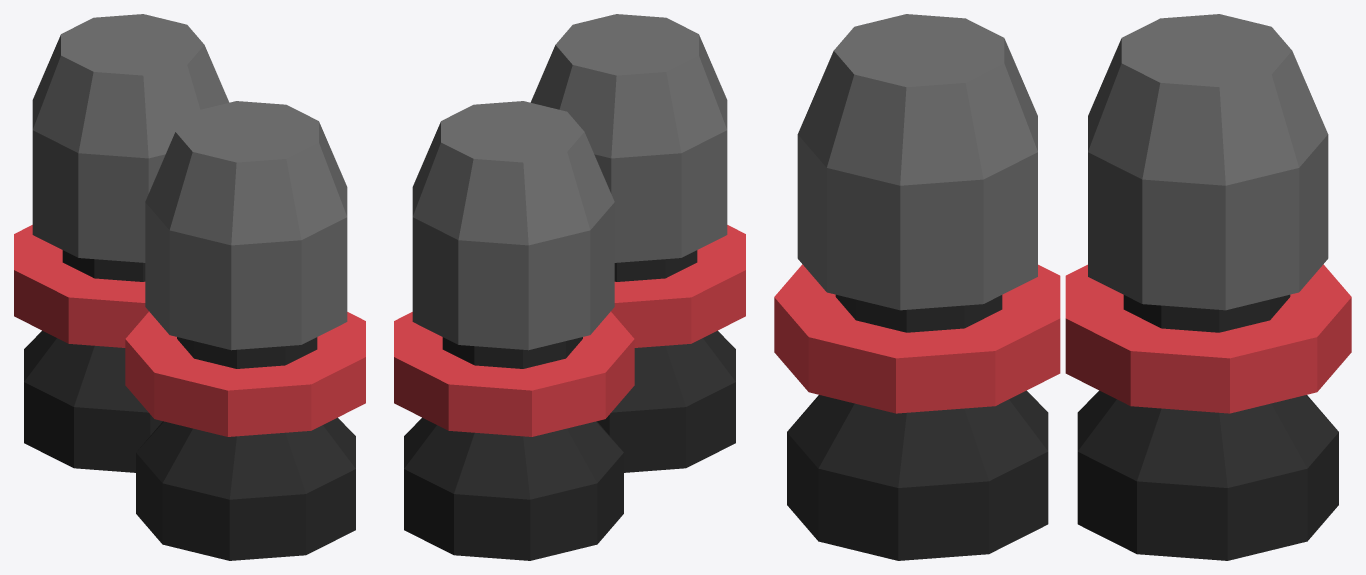
Rendered from qbjet.glb.
3 renders of one model, left to right at view 1: azimuth 30°, elevation 25°; view 2: azimuth 150°, elevation 25°; view 3: azimuth 270°, elevation 25°, orthographic. The views are drawn at different scales.
Parts seen in each view (by area): view 1: booster, cone, clamp, base; view 2: booster, cone, clamp, base; view 3: booster, cone, clamp, base.
Part boxes in pixels (x1,y1,x2,y2): booster: (32,14,347,350); cone: (24,330,355,560); clamp: (14,225,365,436); base: (62,250,317,368); booster: (412,14,727,350); cone: (404,330,735,560); clamp: (394,225,745,436); base: (442,250,697,368); booster: (797,14,1328,310); cone: (787,390,1338,560); clamp: (774,264,1351,413); base: (835,294,1290,332).
Bounding box in the file's own units: 0.2096 × 0.3616 × 0.4167.
